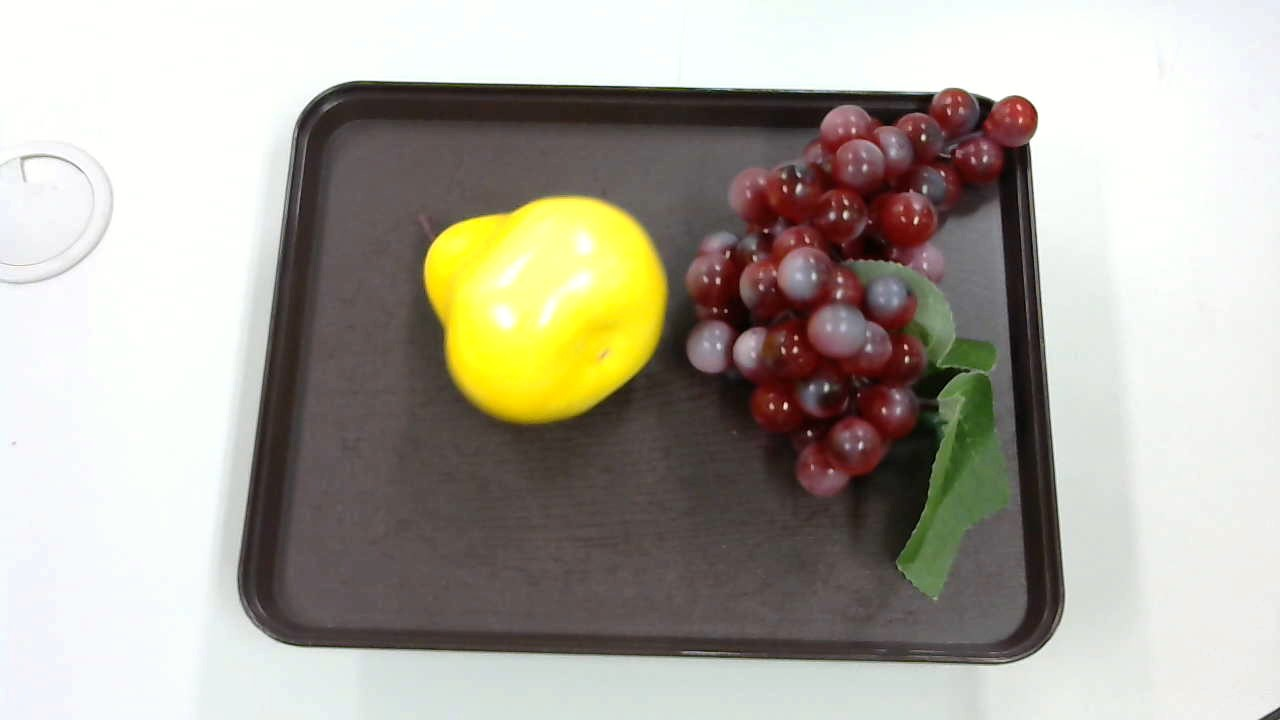grape: (671, 83, 1046, 586)
yellow pear: (410, 190, 671, 427)
